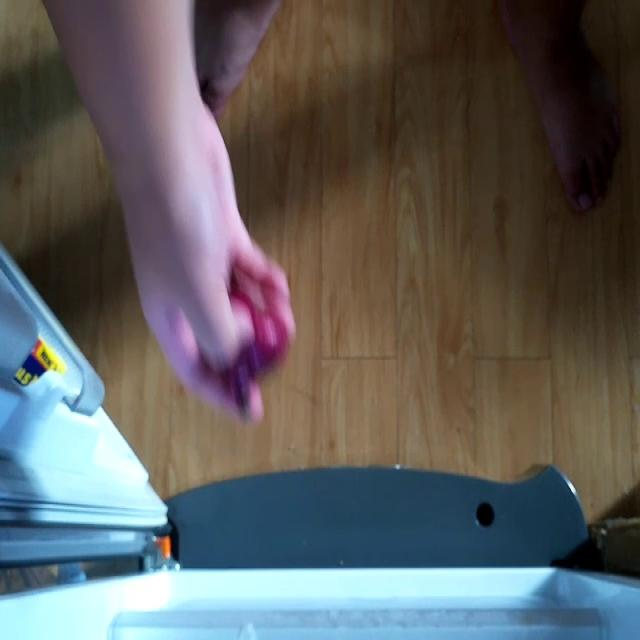onion: (215, 293, 283, 408)
